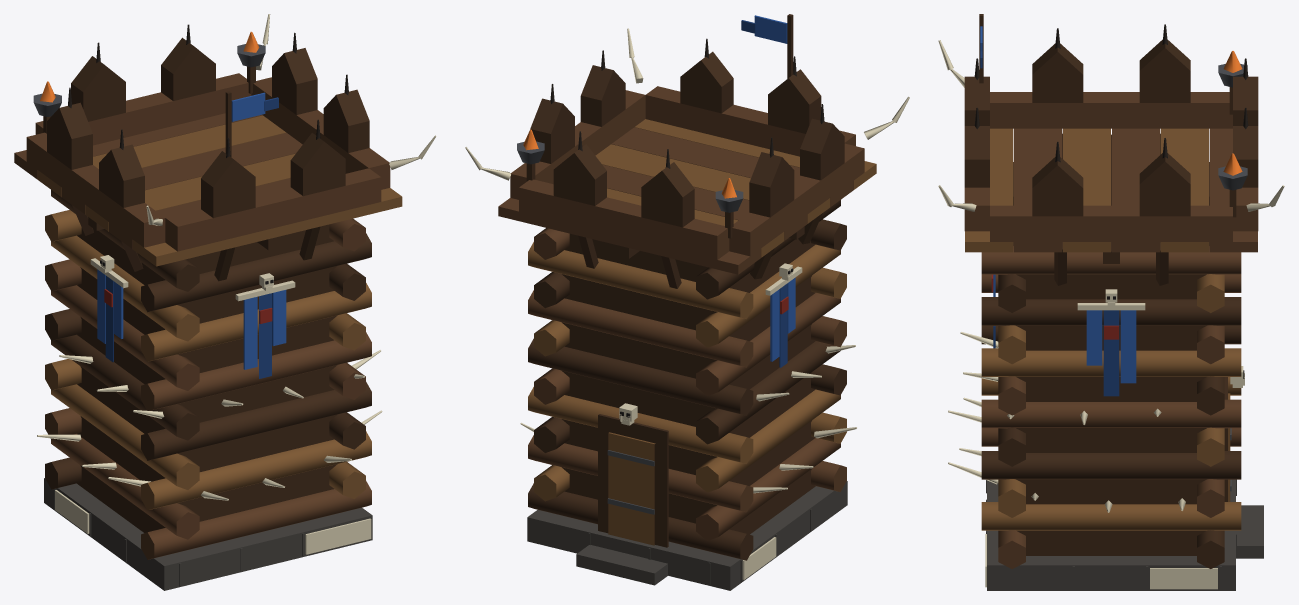
Rendered from orc-timber-tower.glb.
3 views of the same model, side by side, from view 1: azimuth 30°, elevation 25°; view 2: azimuth 150°, elevation 25°; view 3: azimuth 270°, elevation 25° (orthographic). The views are drawn at different scales.
Visible parts, largest first — view 1: orc-timber-tower; view 2: orc-timber-tower; view 3: orc-timber-tower.
Boxes of the visible parts, x1,y1,x2,y2 form: orc-timber-tower: (14,14,436,590); orc-timber-tower: (465,14,909,590); orc-timber-tower: (938,14,1284,590).
Bounding box in the file's own units: 6.13 × 9.8 × 6.13.
1 material, 1 textured.
